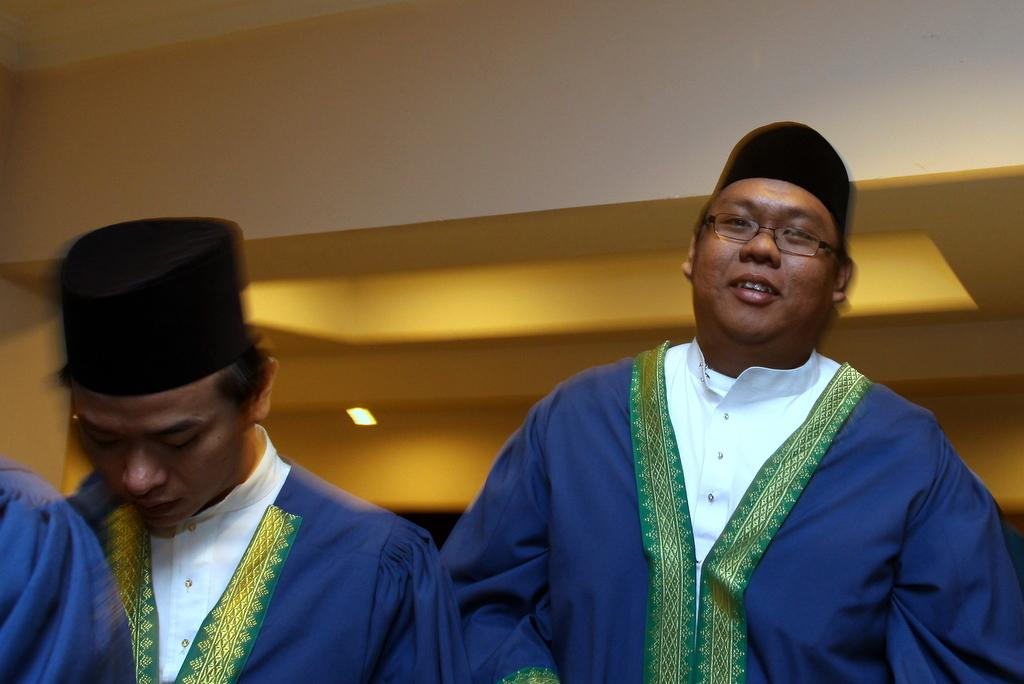Hat: (59, 217, 247, 399), (718, 121, 854, 231)
